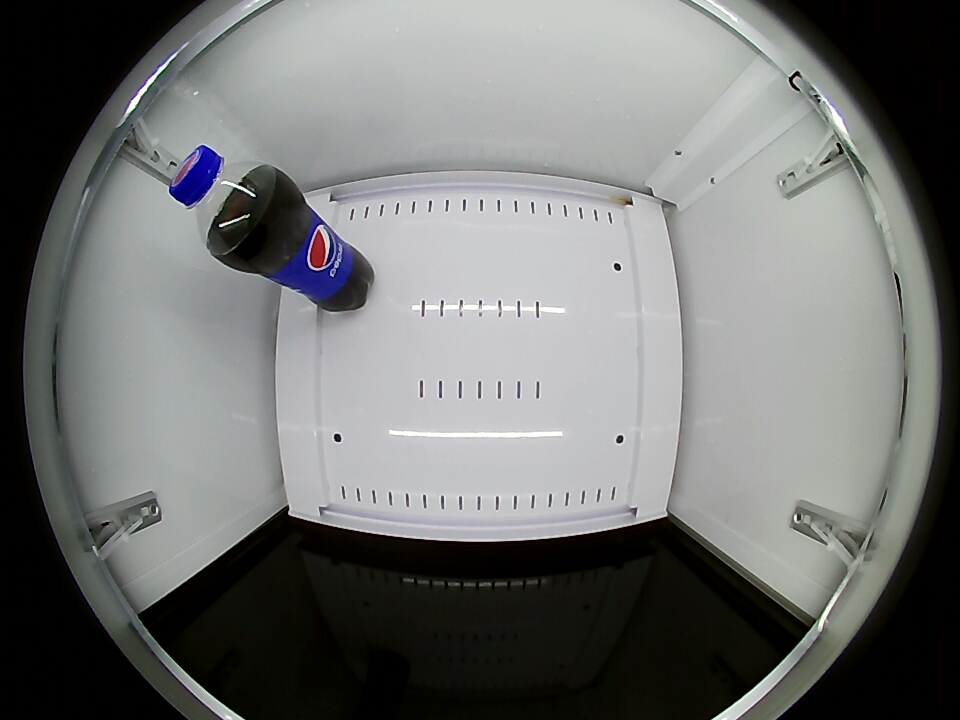baishikele-2: (169, 145, 276, 256)
